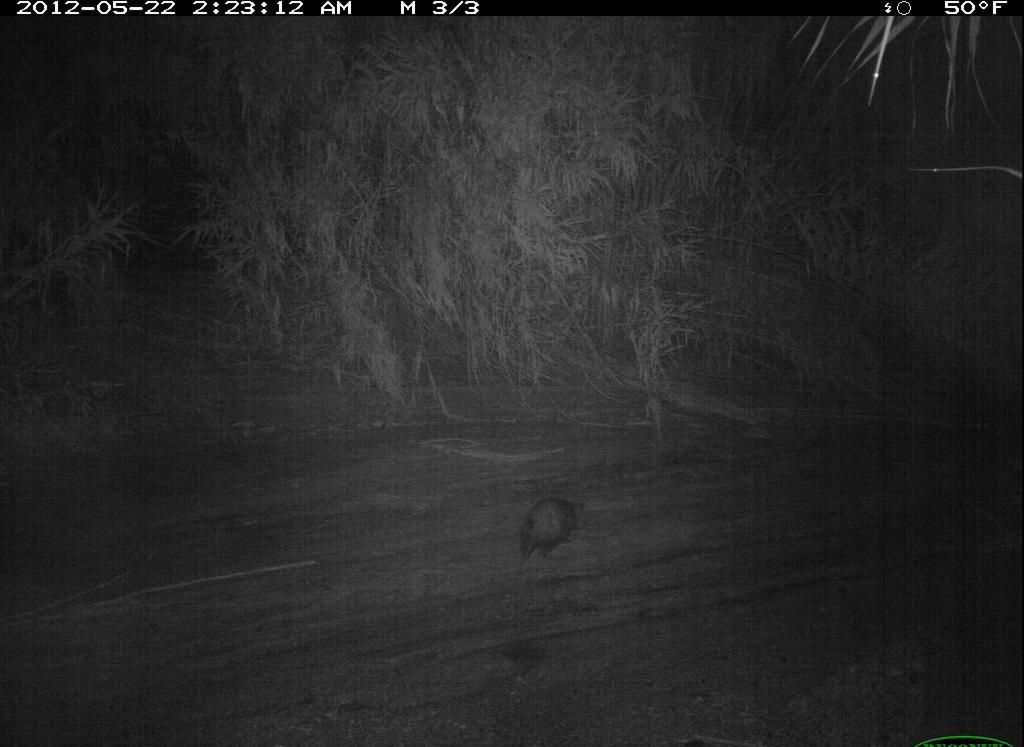opossum: (514, 491, 596, 573)
